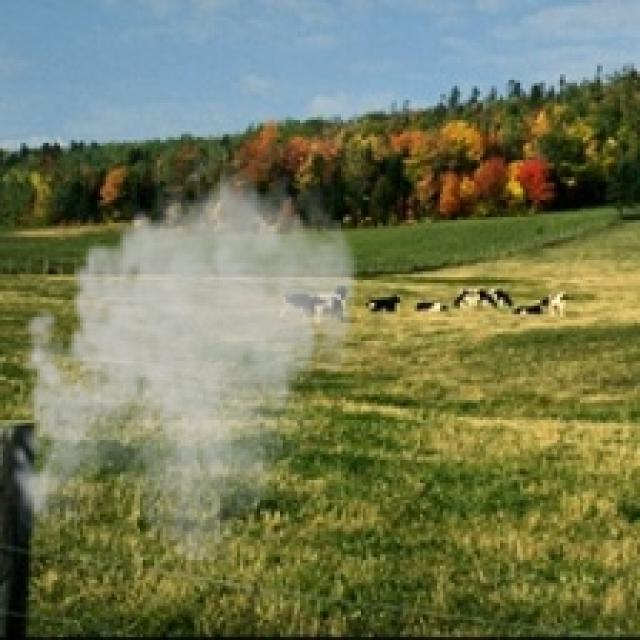Smoke: (0, 154, 366, 566)
